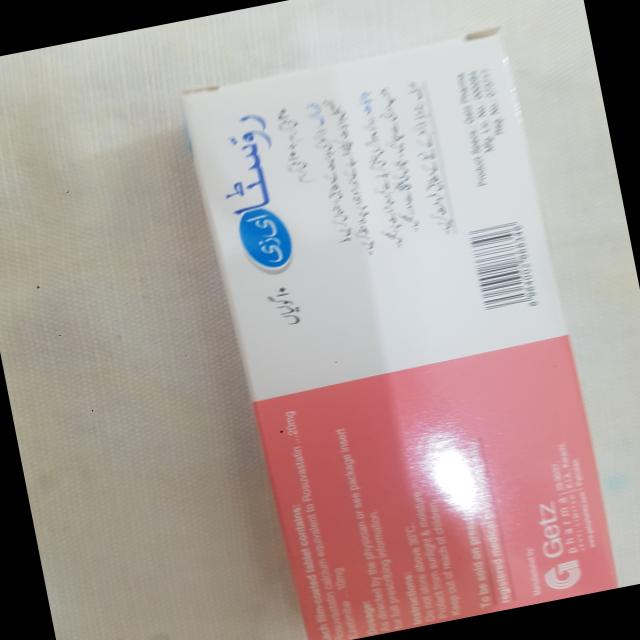electronic: (180, 26, 621, 640)
